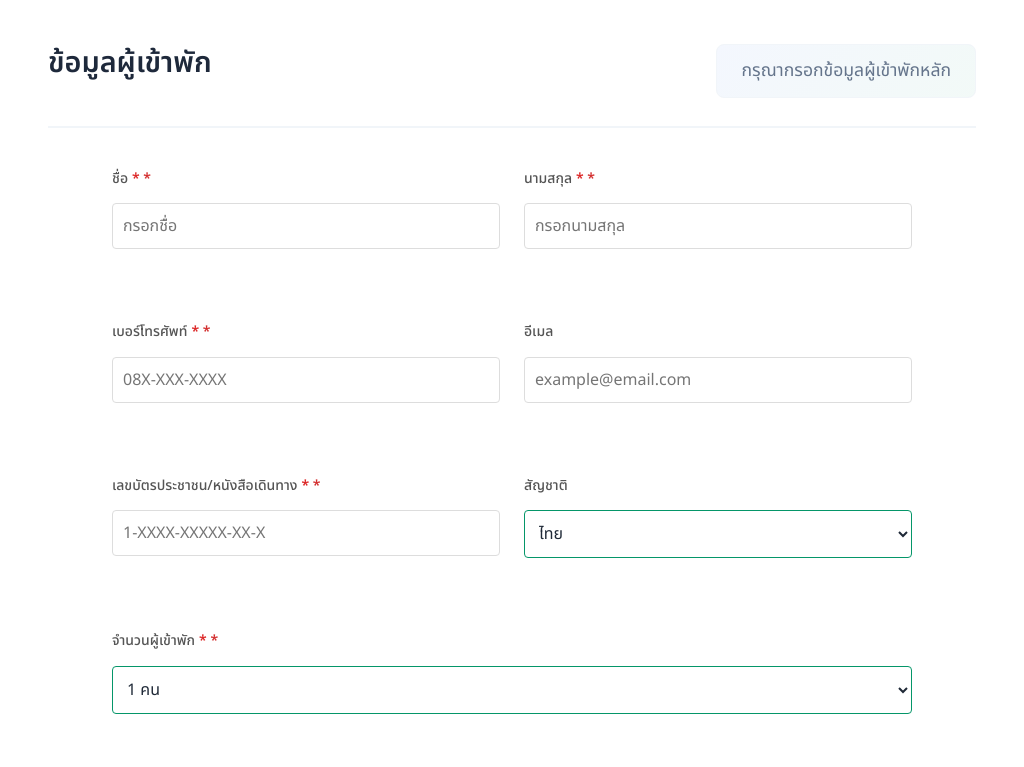
Scenario: GuestForm Component › Edge Cases and Validation Scenarios › Thai ID Validation › rejects Thai ID with invalid checksum
The width and height of the screenshot is (1024, 767).
Type "สมชาย" into the field labelled "ชื่อ *" at [306, 226], box [112,204,500,250]
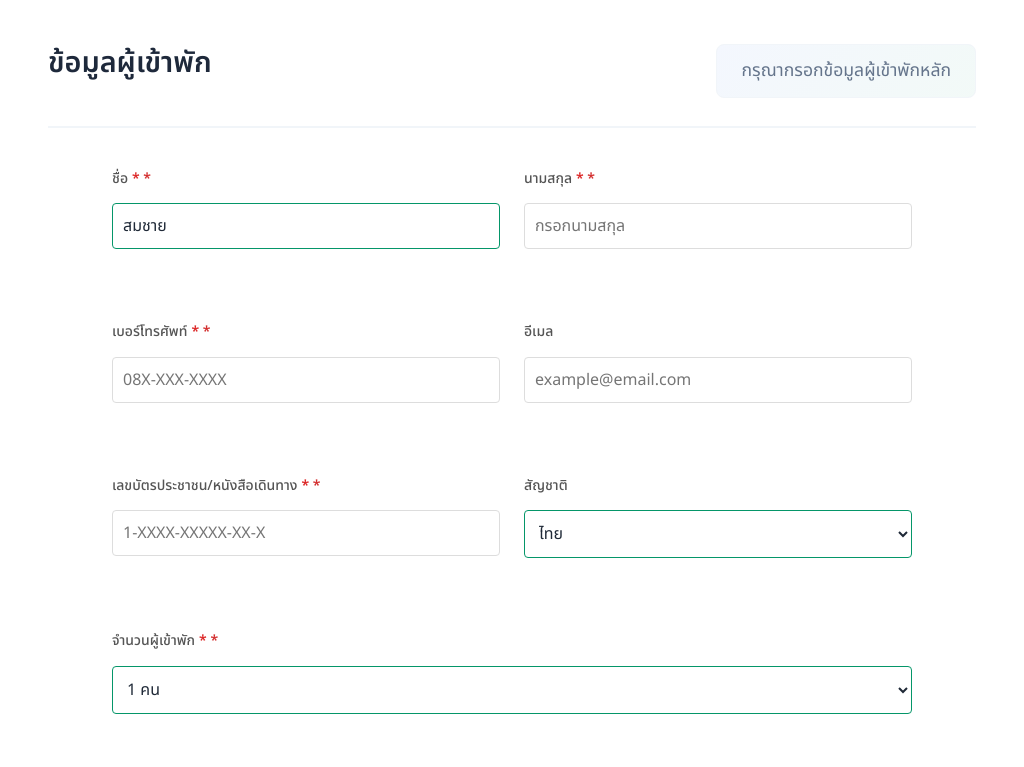
Type "ใจดี" into the field labelled "นามสกุล *" at [718, 226], box [524,204,912,250]
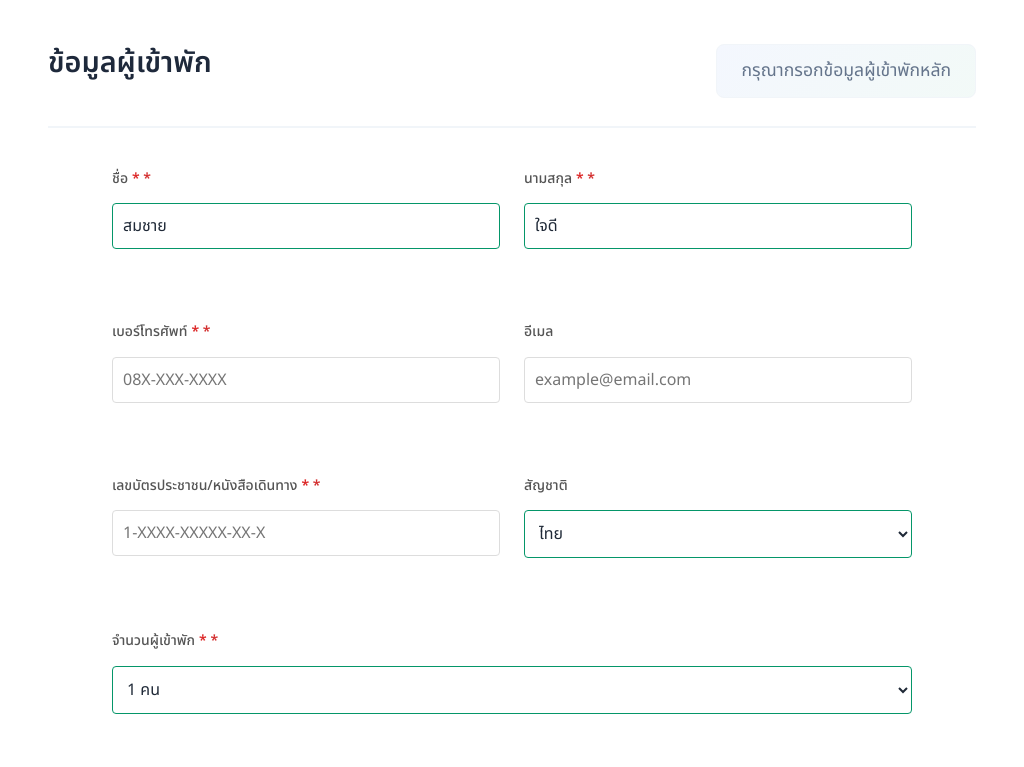
Type "081-234-5678" into the field labelled "เบอร์โทรศัพท์ *" at [306, 380], box [112,357,500,403]
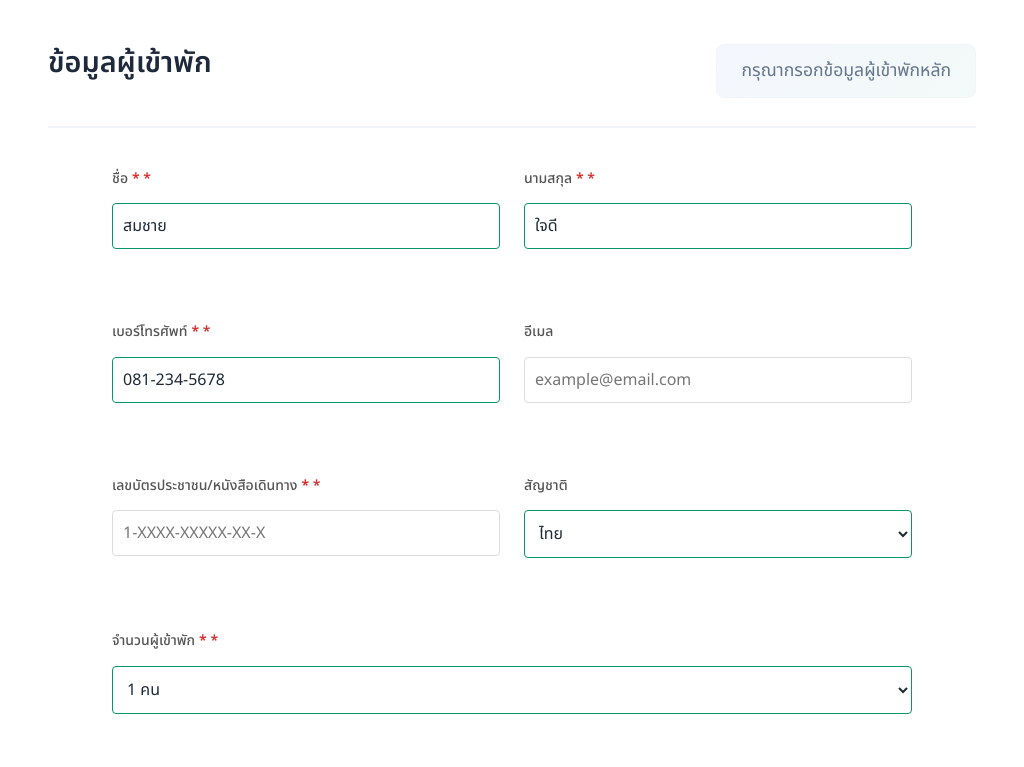
Type "1234567890129" into the field labelled "เลขบัตรประชาชน/หนังสือเดินทาง *" at [306, 533], box [112,510,500,556]
(page scrolled)
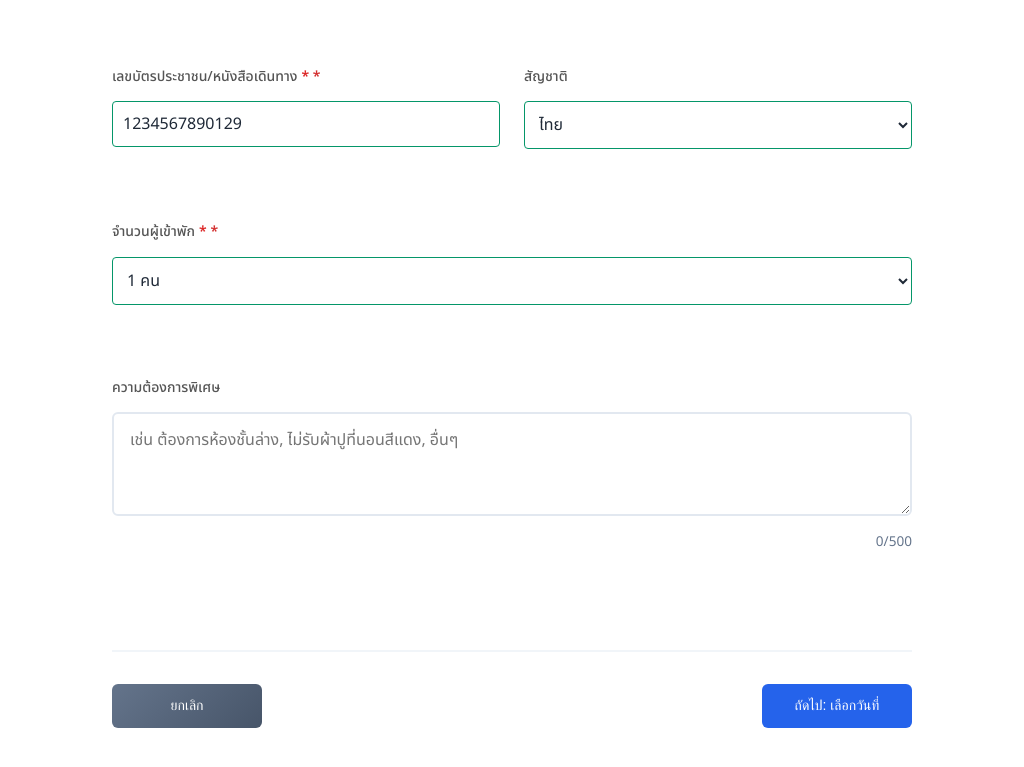
Click the button "ถัดไป: เลือกวันที่" at [837, 706], box [762,684,912,728]
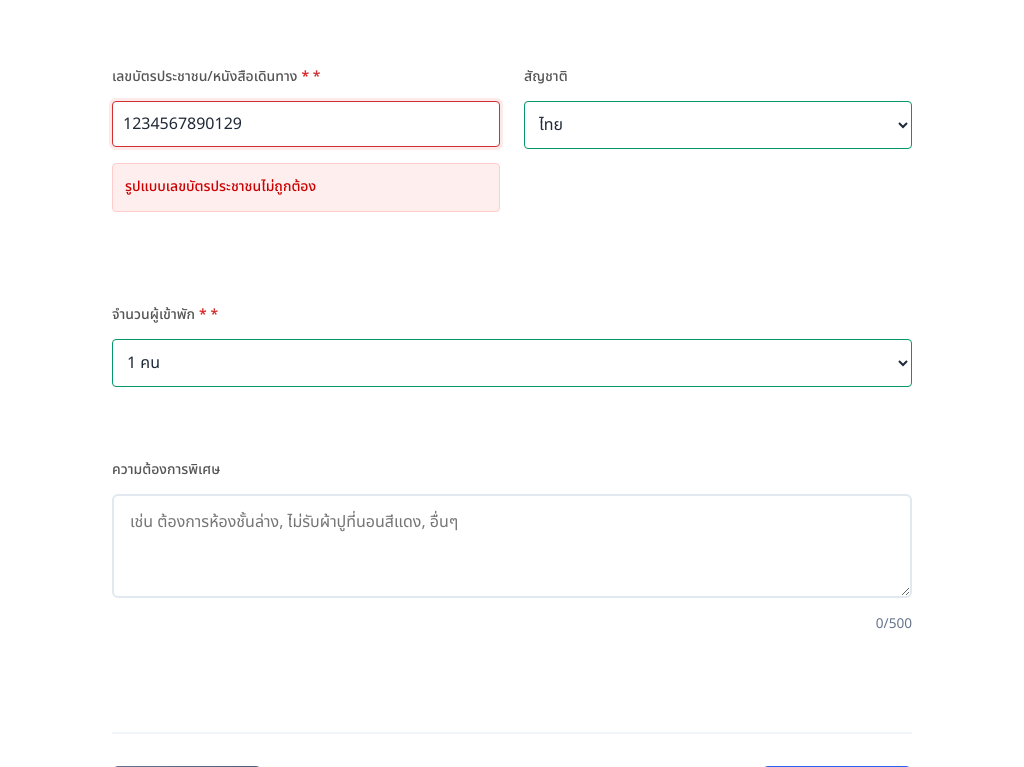
Expected: the text "รูปแบบเลขบัตรประชาชนไม่ถูกต้อง" is shown, [112,163,500,212]
